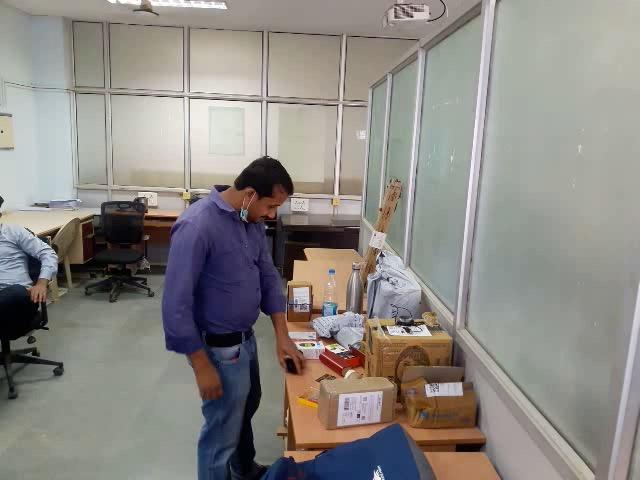shoplifting: (141, 306, 310, 403)
